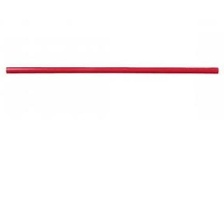drinking_straw: (2, 61, 222, 79)
